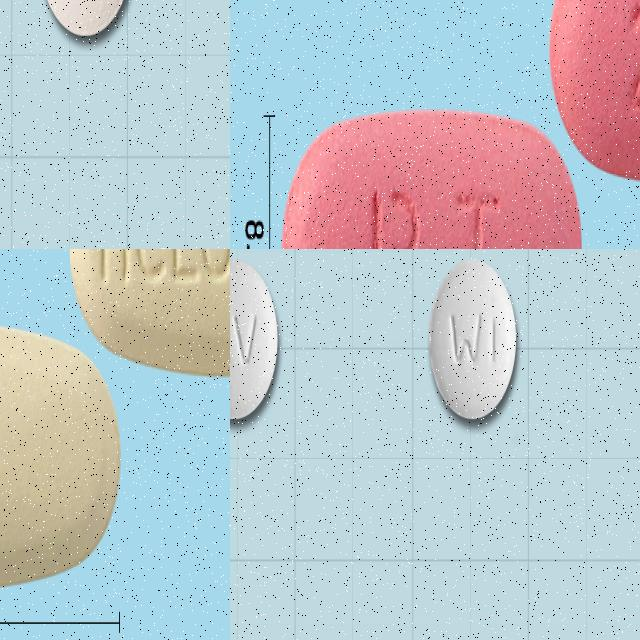Hericlo: (0, 320, 124, 590), (68, 249, 230, 379)
Reyon Clarithromycin Tab: (38, 0, 132, 37)
Uropenta Tab: (281, 107, 581, 249), (550, 0, 640, 187)
Withus Levofloxacin Tab: (428, 259, 519, 421), (230, 256, 279, 420)
